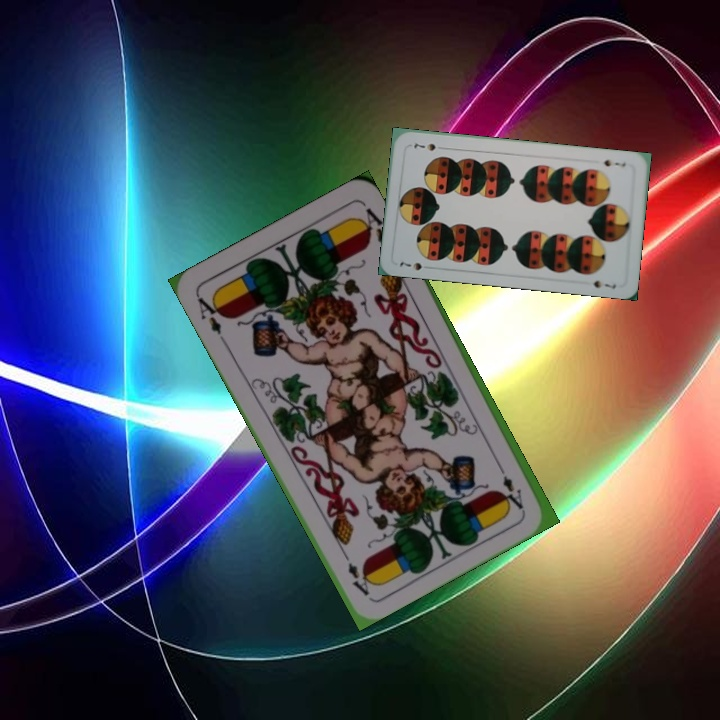EA: (192, 291, 228, 345), (492, 458, 526, 512)
S7: (396, 257, 434, 273), (600, 156, 628, 169)
